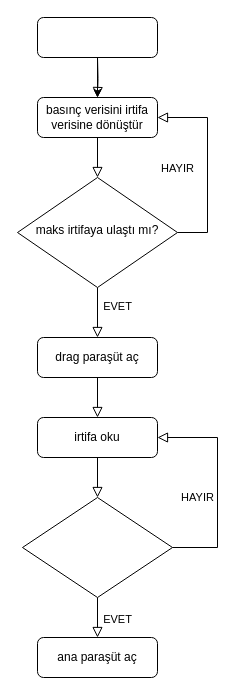
Some shapes in this 245 by 695 pixel diagram are drawn without their labels. Here are the shapes that lost their labels. From the top down, the centre of each, then its label:
At pixel 97 37: "bmp180 basınç verisi oku".
At pixel 97 547: "irtifa<=500m?".
